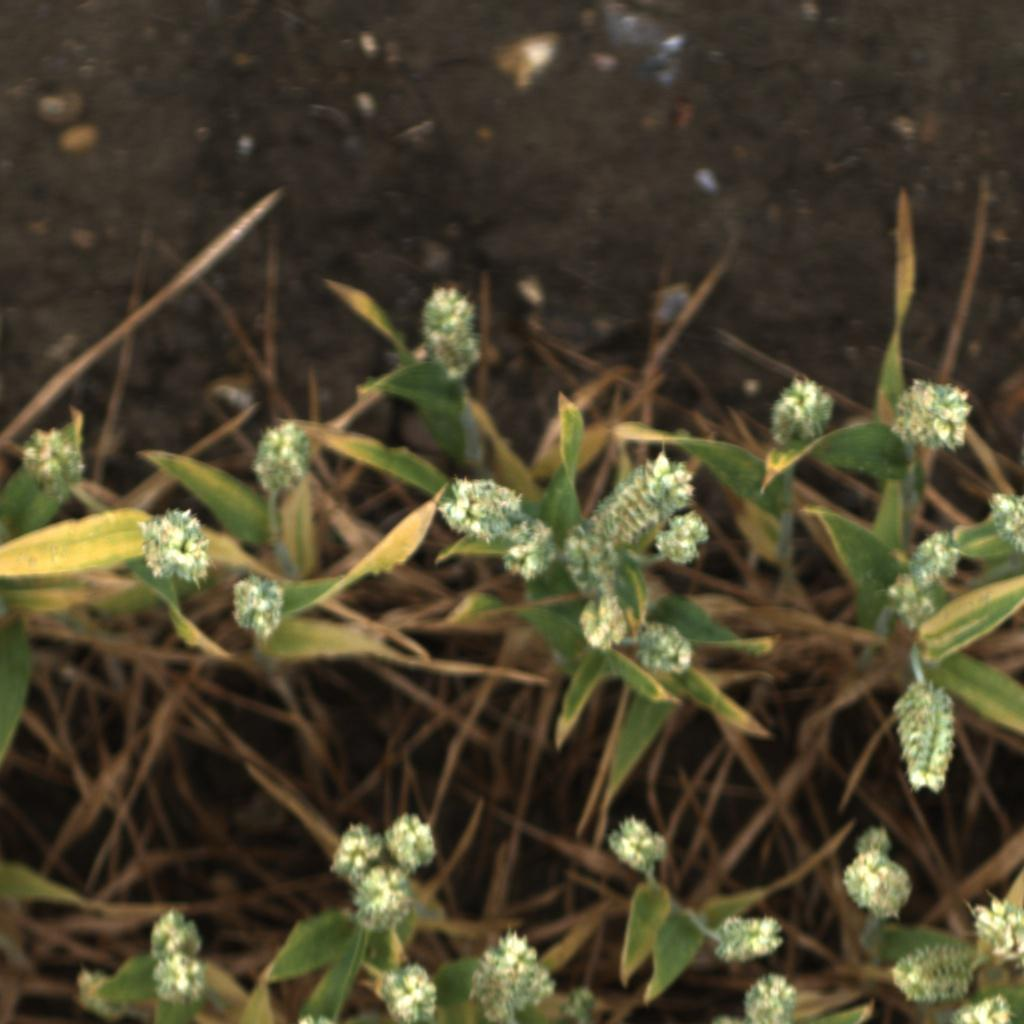0-0: (593, 451, 699, 536), (892, 673, 962, 797), (883, 367, 977, 456), (553, 512, 636, 599), (430, 472, 526, 547), (465, 931, 542, 1024), (418, 281, 488, 381), (134, 505, 215, 589), (241, 416, 320, 498), (888, 938, 979, 1007), (14, 421, 89, 500), (759, 373, 835, 449), (837, 850, 914, 924), (375, 805, 446, 880), (496, 514, 567, 586), (708, 906, 793, 966), (374, 959, 451, 1024), (320, 820, 386, 894), (224, 575, 296, 640), (876, 566, 942, 636), (570, 588, 633, 658), (602, 814, 673, 875), (356, 864, 420, 931), (969, 887, 1024, 963), (632, 612, 694, 679), (68, 964, 132, 1024), (652, 509, 717, 567), (910, 521, 965, 586), (149, 952, 209, 1011), (737, 974, 803, 1024), (151, 905, 206, 960), (982, 488, 1024, 560), (511, 960, 559, 1016), (951, 991, 1015, 1024), (558, 985, 600, 1024), (854, 823, 894, 863)
